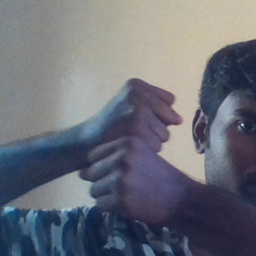G: (76, 70, 187, 225)
